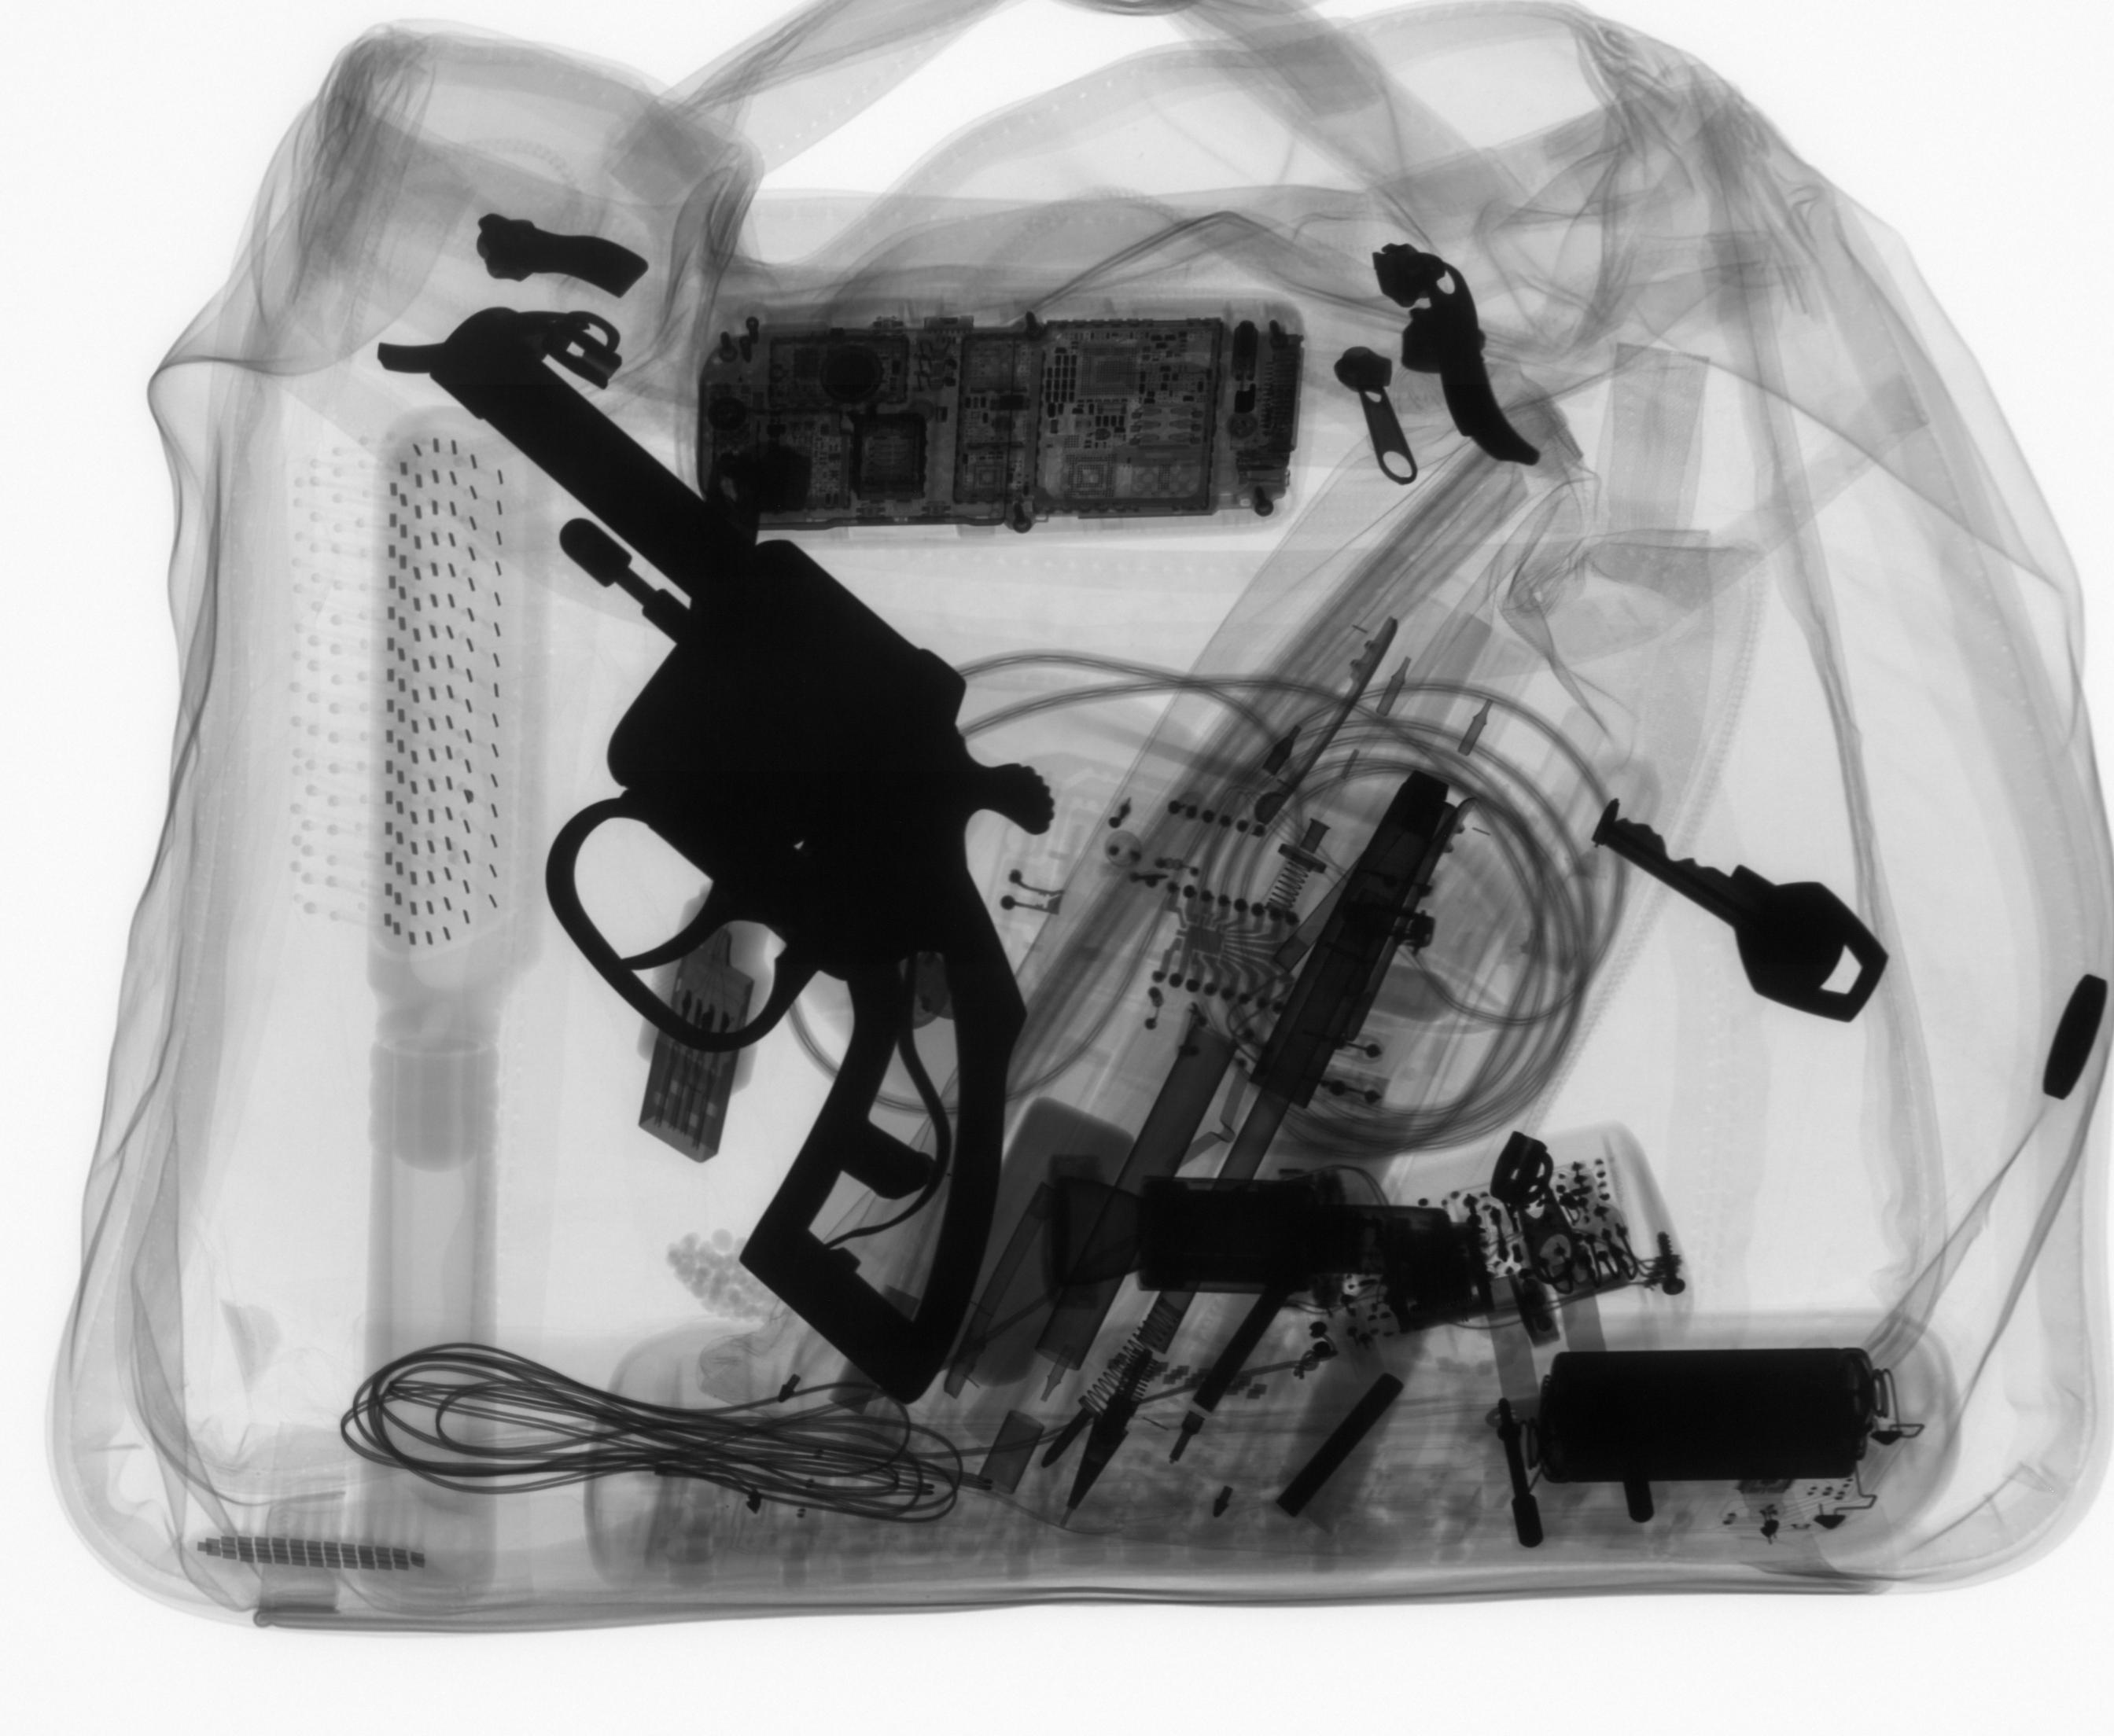Handgun: (434, 309, 1065, 1415)
